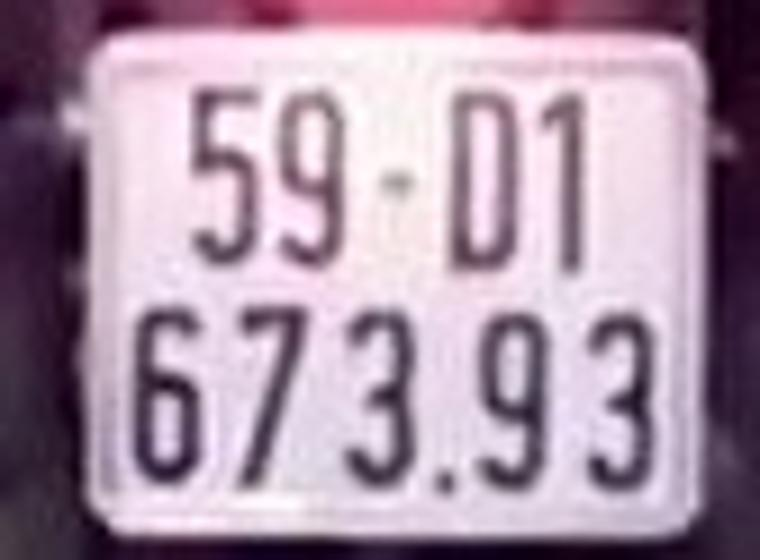-: (368, 166, 423, 202)
.: (422, 458, 462, 501)
1: (539, 80, 604, 284)
3: (334, 298, 420, 495), (577, 308, 660, 499)
5: (190, 81, 266, 274)
6: (131, 294, 217, 488)
7: (233, 295, 311, 491)
9: (469, 305, 556, 495), (276, 81, 351, 270)
D: (441, 87, 527, 283)
